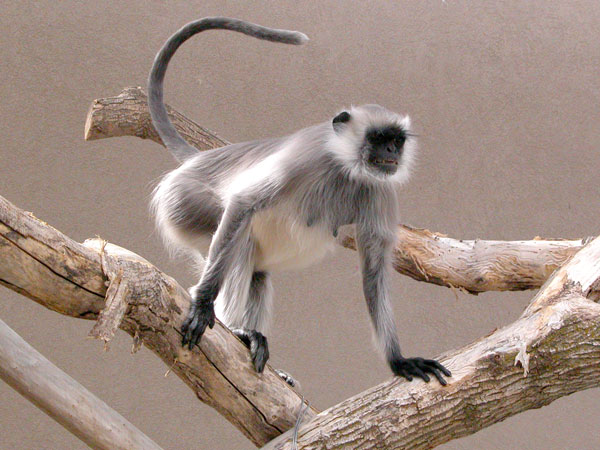monkey: (102, 9, 456, 399)
